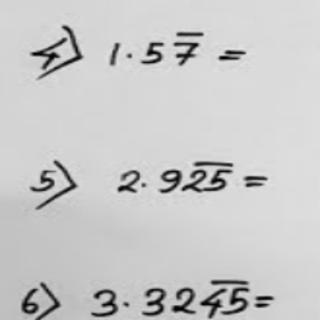.: (124, 50, 134, 60), (121, 300, 131, 308), (139, 181, 147, 190)
1: (107, 40, 121, 68)
2: (171, 287, 197, 315), (115, 169, 140, 197), (182, 169, 206, 193)
3: (91, 287, 120, 318), (141, 287, 167, 317)
4: (201, 288, 228, 320)
5: (219, 286, 250, 316), (139, 41, 165, 66), (29, 168, 56, 192), (208, 169, 234, 191)
6: (19, 287, 41, 315)
7: (171, 39, 202, 68)
9: (157, 169, 182, 194)
